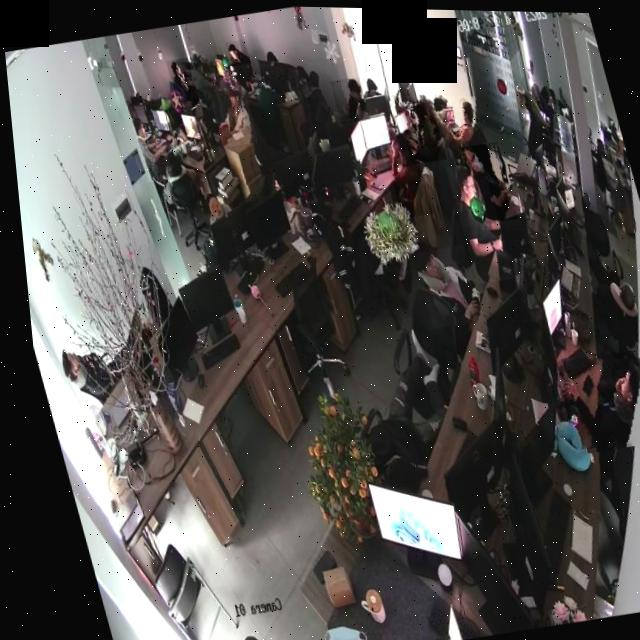person: (544, 345, 640, 454), (441, 158, 509, 282), (406, 241, 479, 327), (410, 85, 484, 152), (456, 138, 514, 223), (376, 126, 429, 217), (594, 137, 633, 231), (394, 95, 444, 163), (205, 82, 255, 147), (128, 112, 170, 182), (327, 75, 368, 122), (164, 56, 199, 109), (224, 37, 250, 65)
